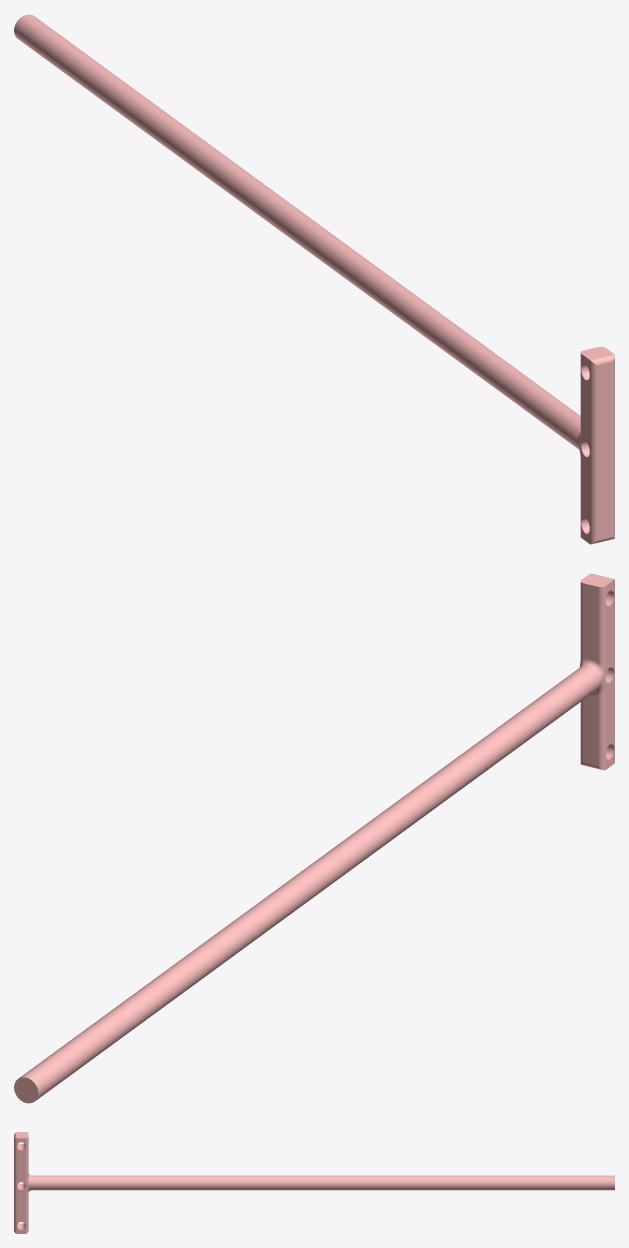
The model's file is lowerArm.obj.
The picture shows the model from 3 angles, top to bottom: view 1: azimuth 30°, elevation 25°; view 2: azimuth 150°, elevation 25°; view 3: azimuth 270°, elevation 25°; orthographic projection. The views are drawn at different scales.
Parts seen in each view (by area): view 1: Root|lowerArm_(Default)|Default|Default_-_Part; view 2: Root|lowerArm_(Default)|Default|Default_-_Part; view 3: Root|lowerArm_(Default)|Default|Default_-_Part.
Part boxes in pixels (x1,y1,x2,y2): Root|lowerArm_(Default)|Default|Default_-_Part: (14, 14, 614, 544); Root|lowerArm_(Default)|Default|Default_-_Part: (14, 573, 614, 1103); Root|lowerArm_(Default)|Default|Default_-_Part: (14, 1132, 614, 1233).
Size of the model in its own units: 0.01 by 0.072 by 0.41.
